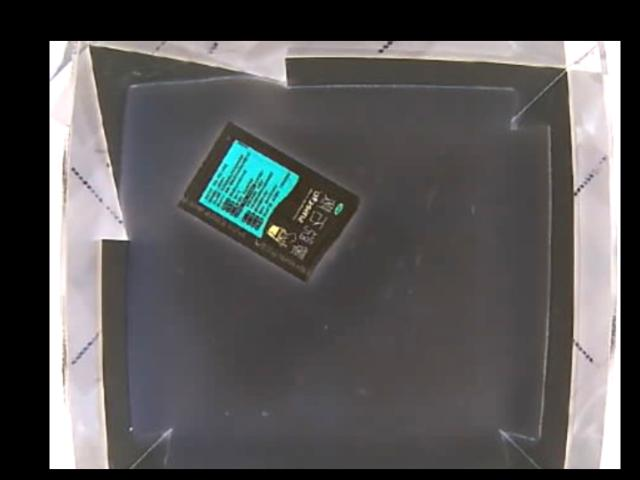Medicine: (176, 119, 363, 280)
